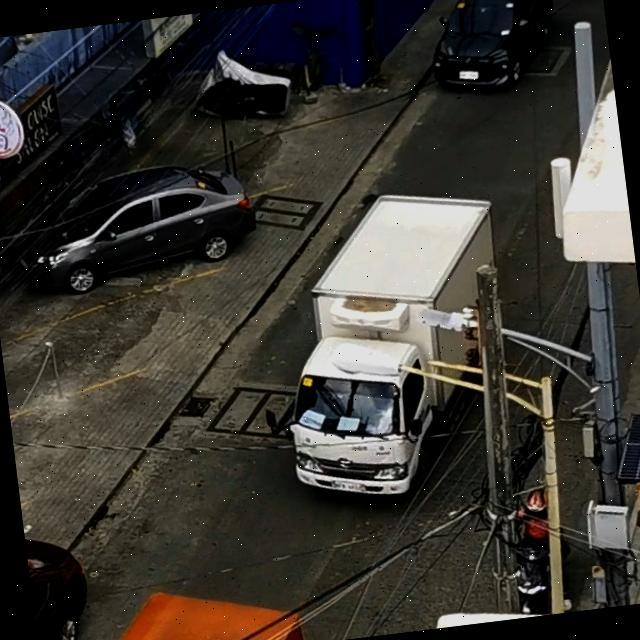Truck: (262, 178, 504, 485), (31, 550, 356, 640)
